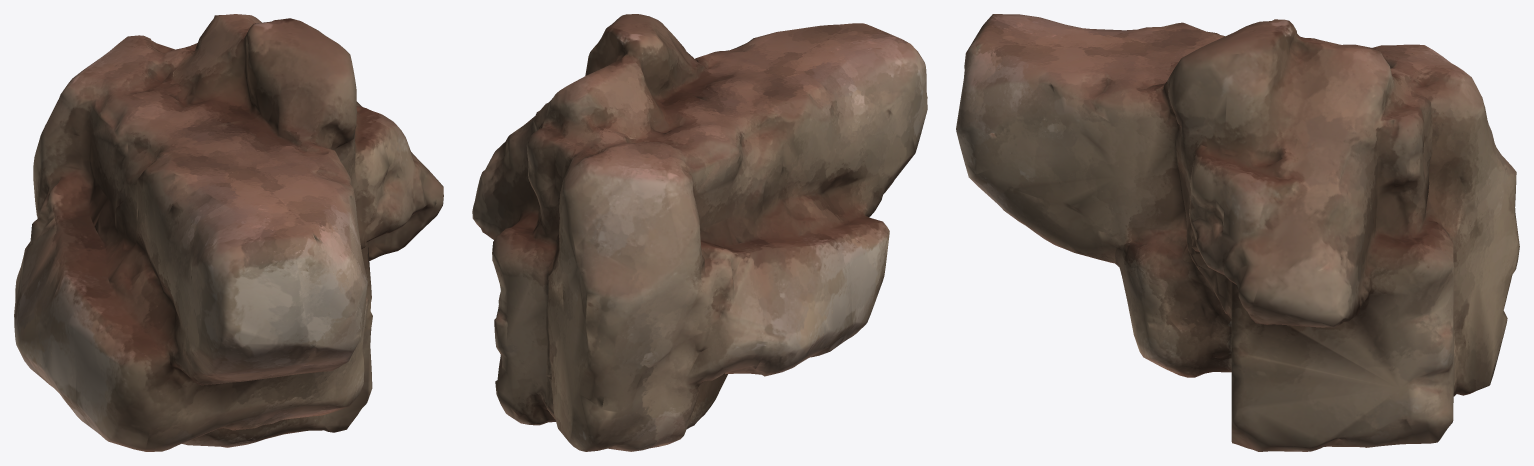
Rendered from rock7.fbx.
The picture shows the model from 3 angles, left to right: view 1: azimuth 30°, elevation 25°; view 2: azimuth 150°, elevation 25°; view 3: azimuth 270°, elevation 25°; orthographic projection. The views are drawn at different scales.
Visible parts, largest first — view 1: Plane; view 2: Plane; view 3: Plane.
Boxes of the visible parts, left/top/right/bottom form: Plane: left=14, top=14, right=443, bottom=451; Plane: left=472, top=14, right=927, bottom=451; Plane: left=956, top=14, right=1519, bottom=451.
Size of the model in its own units: 856 by 849 by 1103.
1 material, 1 textured.
